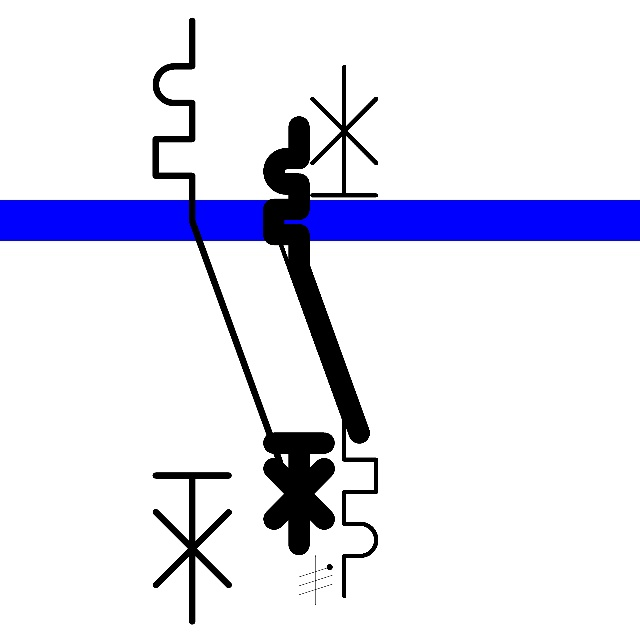interruptor_termomagnetico: (140, 5, 294, 637), (254, 53, 390, 610), (263, 116, 370, 555)
